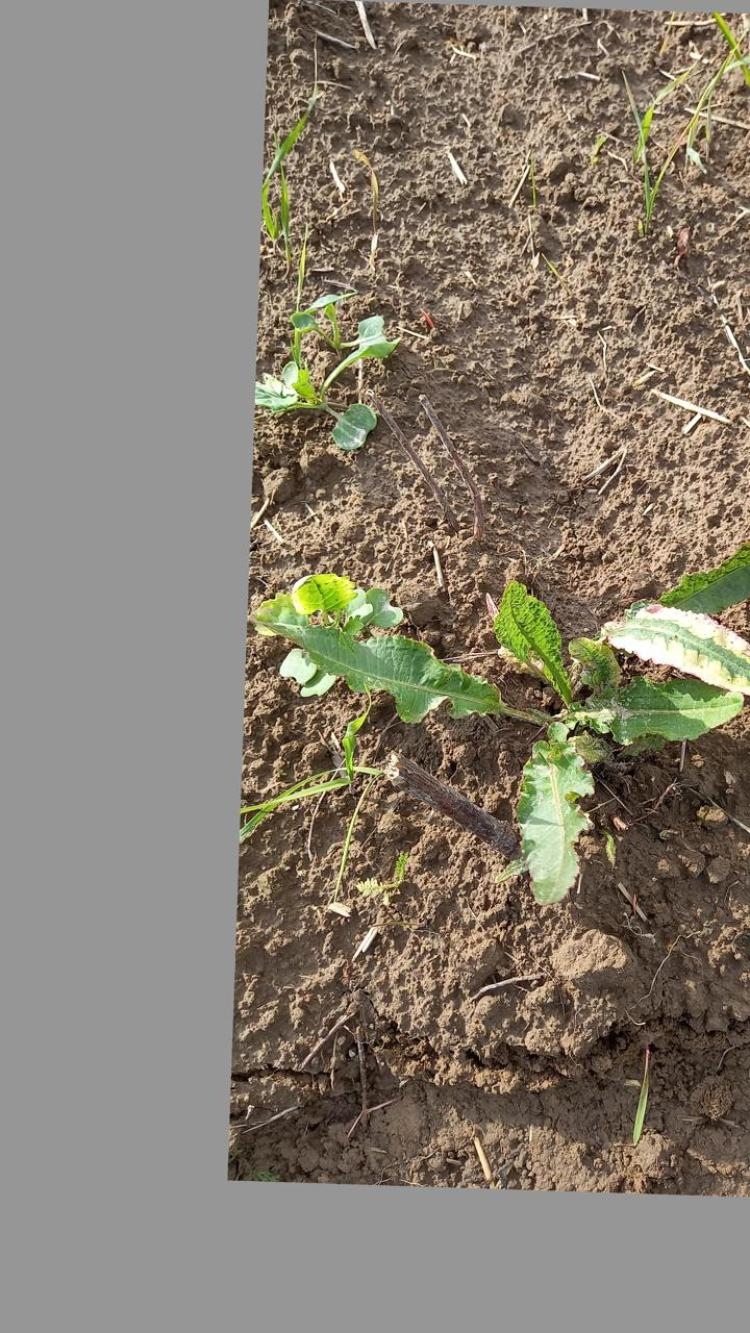zhavel: (241, 535, 750, 903)
